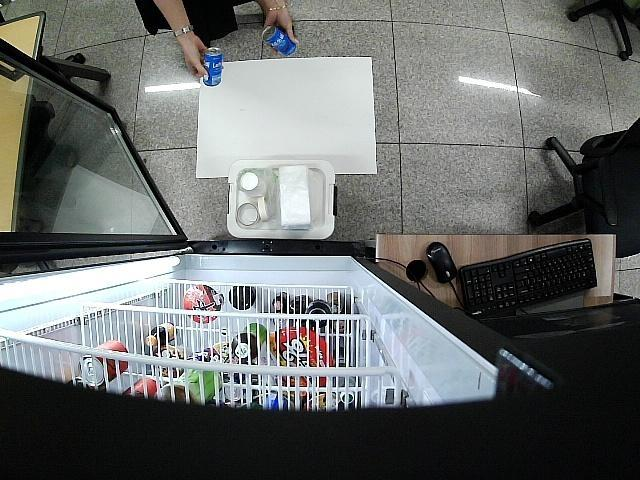15_letsbe: (262, 26, 296, 53), (202, 48, 222, 88)
